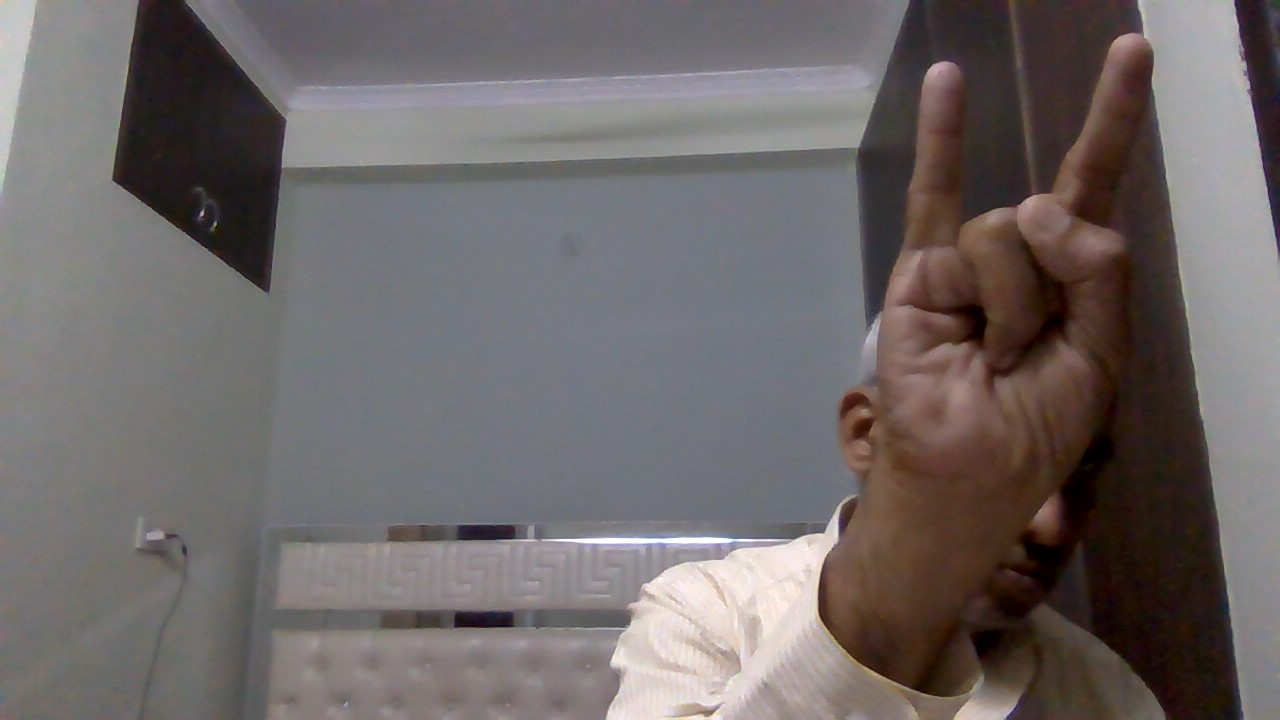Select All: (871, 24, 1163, 504)
